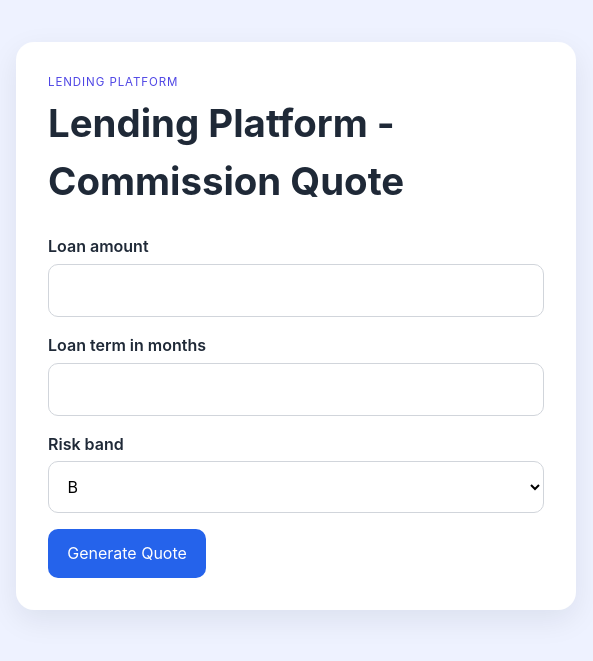
Test: App › validates required fields before submitting
The image size is (593, 661).
Click the button "Generate Quote". click: (127, 553)
box: [48, 529, 206, 578]
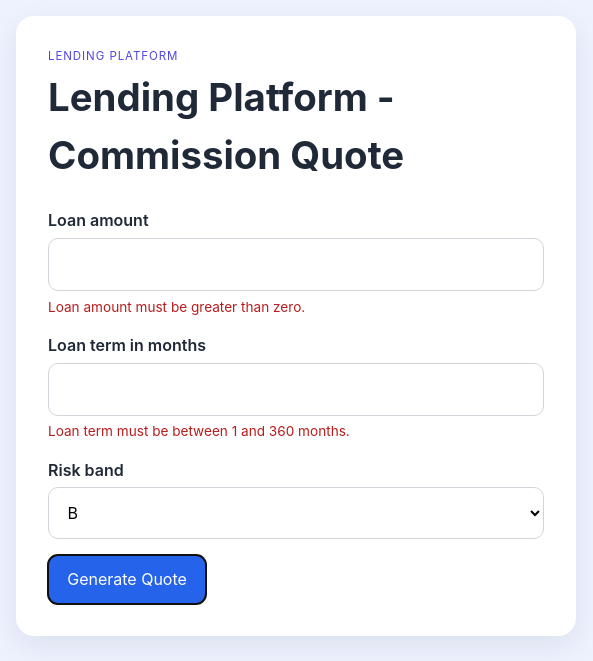
Now the text "Loan amount must be greater than zero." is shown, box [48, 299, 305, 315]
